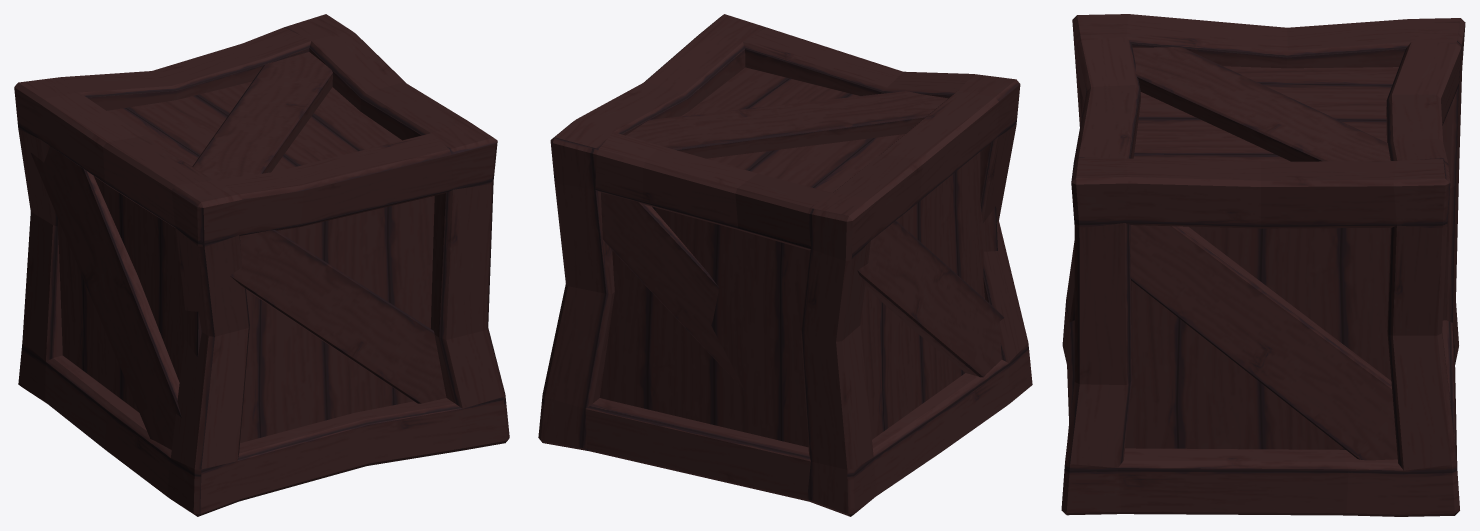
The model's file is PROP_Crate_1.fbx.
The picture shows the model from 3 angles, left to right: view 1: azimuth 30°, elevation 25°; view 2: azimuth 150°, elevation 25°; view 3: azimuth 270°, elevation 25°; orthographic projection. The views are drawn at different scales.
Visible parts, largest first — view 1: PROP_Crate_1; view 2: PROP_Crate_1; view 3: PROP_Crate_1.
Part boxes in pixels (x1=…): PROP_Crate_1: x1=14, y1=14, x2=509, y2=516; PROP_Crate_1: x1=538, y1=14, x2=1032, y2=516; PROP_Crate_1: x1=1061, y1=14, x2=1465, y2=516.
Size of the model in its own units: 131 by 120 by 130.
1 material, 1 textured.
